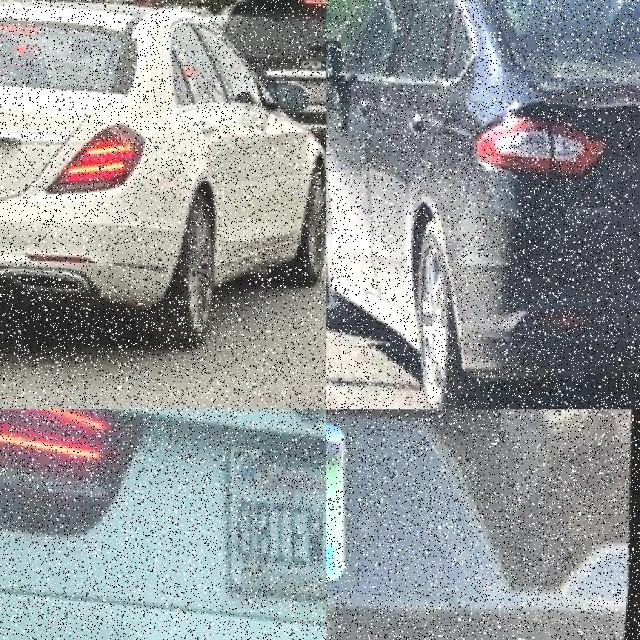licenseplate: (223, 422, 326, 606)
